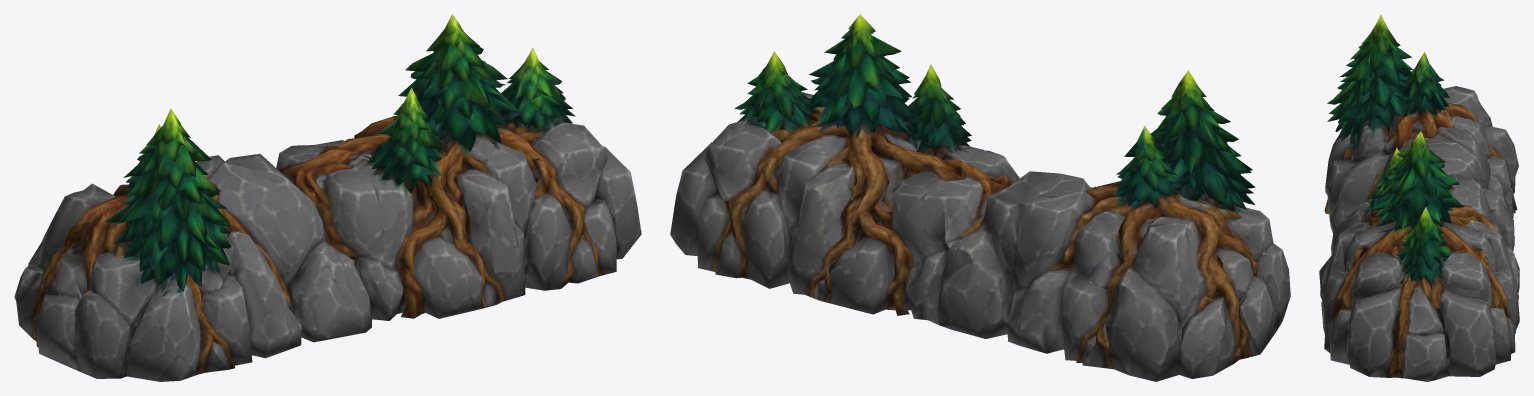
Rendered from wall_hi.glb.
3 views of the same model, side by side, from view 1: azimuth 30°, elevation 25°; view 2: azimuth 150°, elevation 25°; view 3: azimuth 270°, elevation 25° (orthographic). The views are drawn at different scales.
Parts seen in each view (by area): view 1: Wall.001; view 2: Wall.001; view 3: Wall.001.
Boxes of the visible parts, x1,y1,x2,y2 form: Wall.001: [14, 14, 641, 381]; Wall.001: [670, 14, 1290, 381]; Wall.001: [1319, 14, 1519, 381].
Size of the model in its own units: 1.9 by 0.7722 by 0.7389.
Materials: 1 (1 with a texture image).
